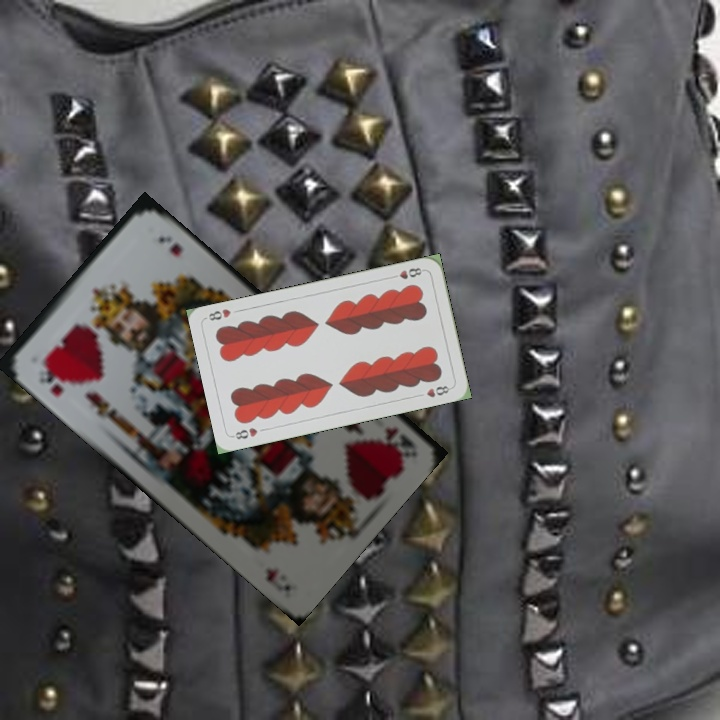H8: (387, 263, 427, 282), (229, 423, 260, 442)
HK: (34, 358, 67, 399), (380, 422, 418, 452)
